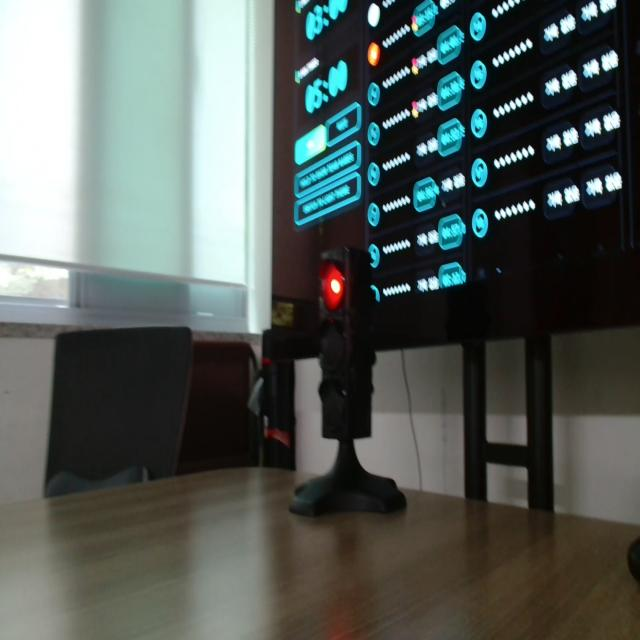red_light: (321, 264, 343, 311), (368, 43, 380, 66)
